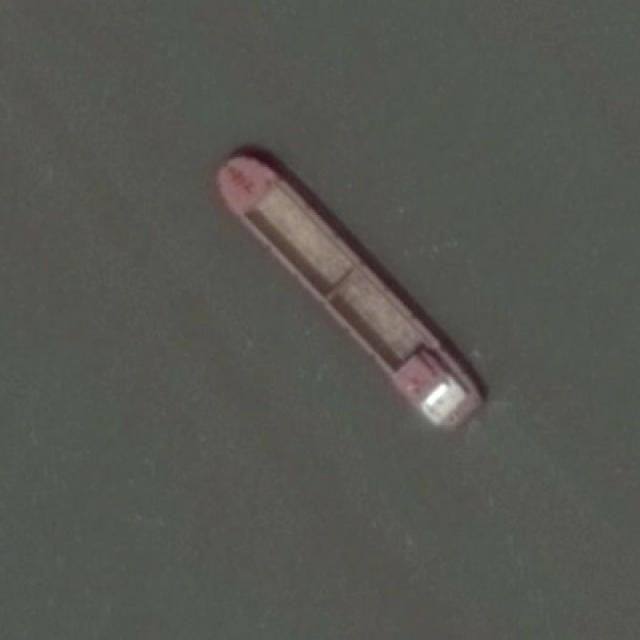boat: (213, 150, 488, 440)
